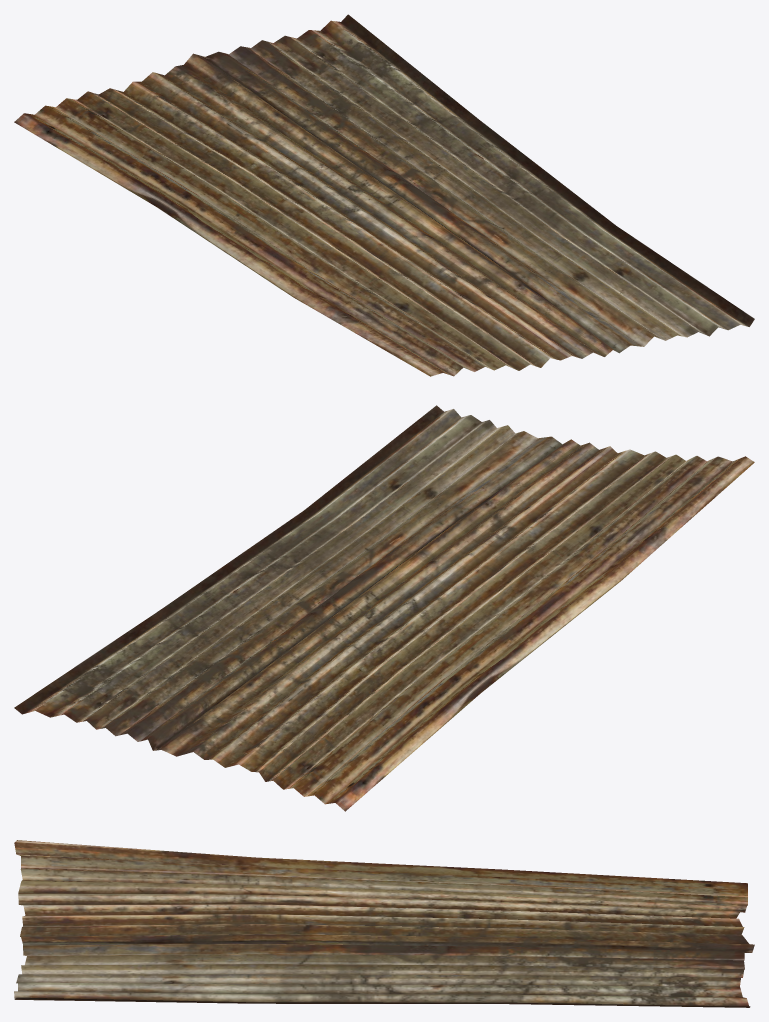
The model's file is Rusted_LongSheet.FBX.
3 views of the same model, one above another, from view 1: azimuth 30°, elevation 25°; view 2: azimuth 150°, elevation 25°; view 3: azimuth 270°, elevation 25° (orthographic). The views are drawn at different scales.
Visible parts, largest first — view 1: Rusted_LongSheet; view 2: Rusted_LongSheet; view 3: Rusted_LongSheet.
Boxes of the visible parts, box(x1,y1,x2,y2) form: Rusted_LongSheet: box(14, 14, 754, 376); Rusted_LongSheet: box(14, 405, 754, 811); Rusted_LongSheet: box(14, 840, 754, 1007).
Bounding box in the file's own units: 148 × 22.17 × 321.
